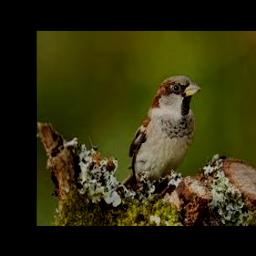Sparrow: (121, 76, 201, 192)
